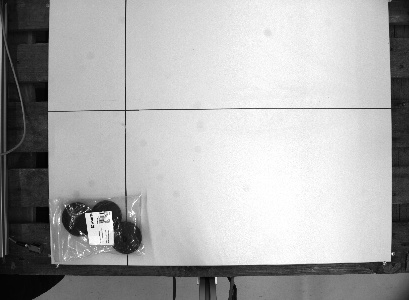t1: (45, 190, 151, 265)
